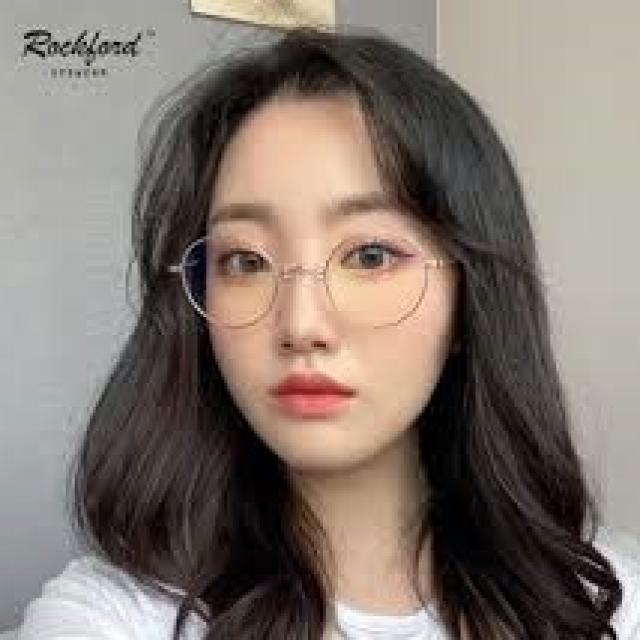Glasses: (165, 218, 472, 335)
